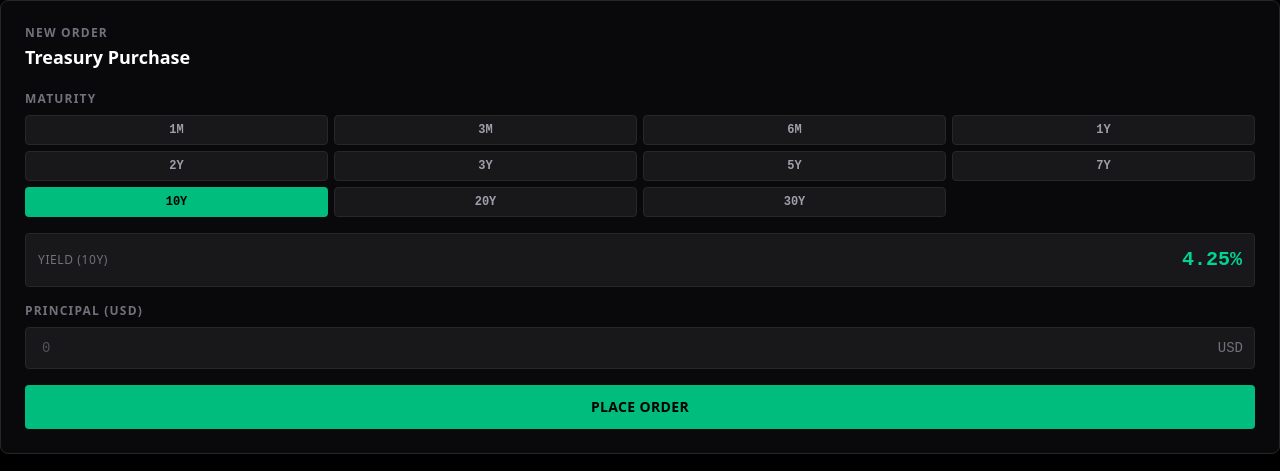
Test: OrderForm › failed submission › shows a generic toast when error is not an Error instance
This screenshot has width=1280, height=471.
Type "5000" into the number field at (640, 348), box top-left (25, 327), bottom-right (1255, 369)
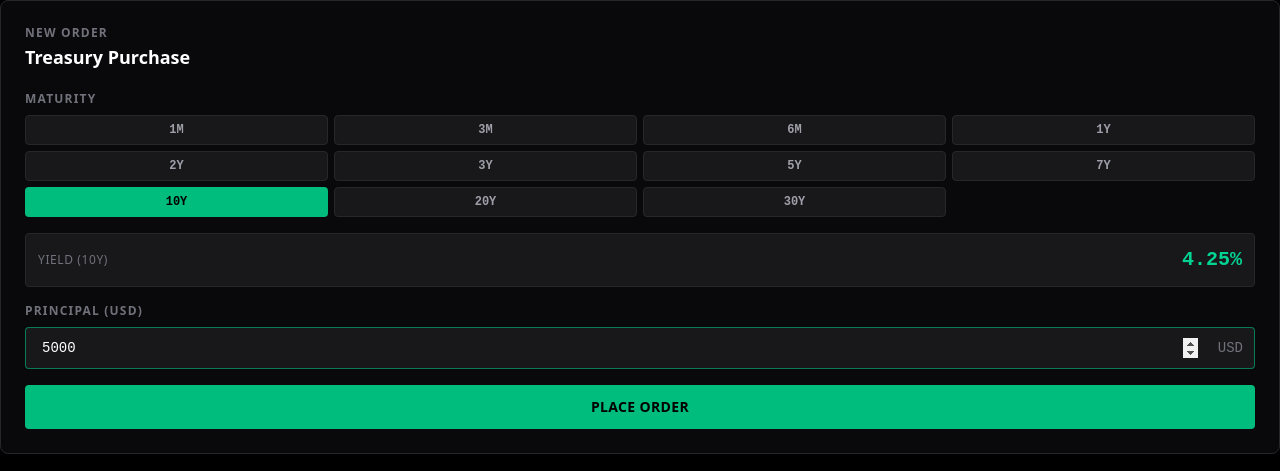
Click the button "PLACE ORDER" at (640, 407), box top-left (25, 385), bottom-right (1255, 429)
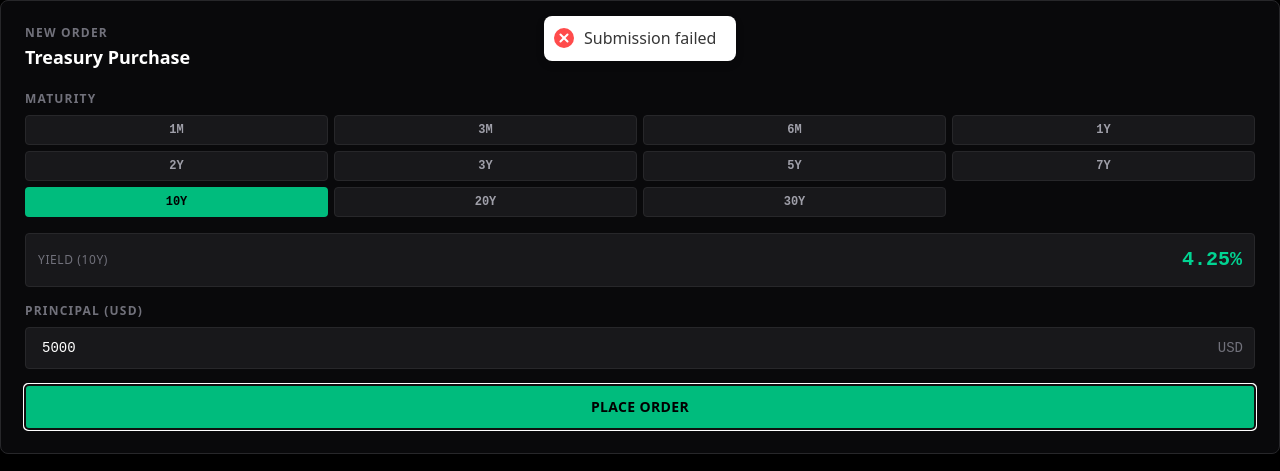
Expected: the text "Submission failed" is shown, top-left (584, 28), bottom-right (716, 49)
